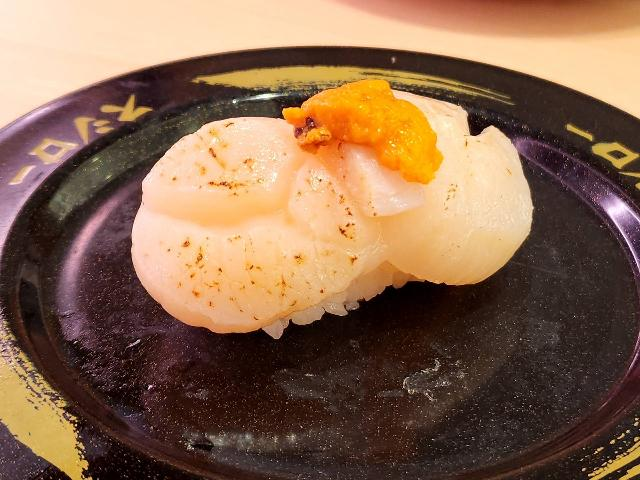janback: (5, 55, 620, 474)
